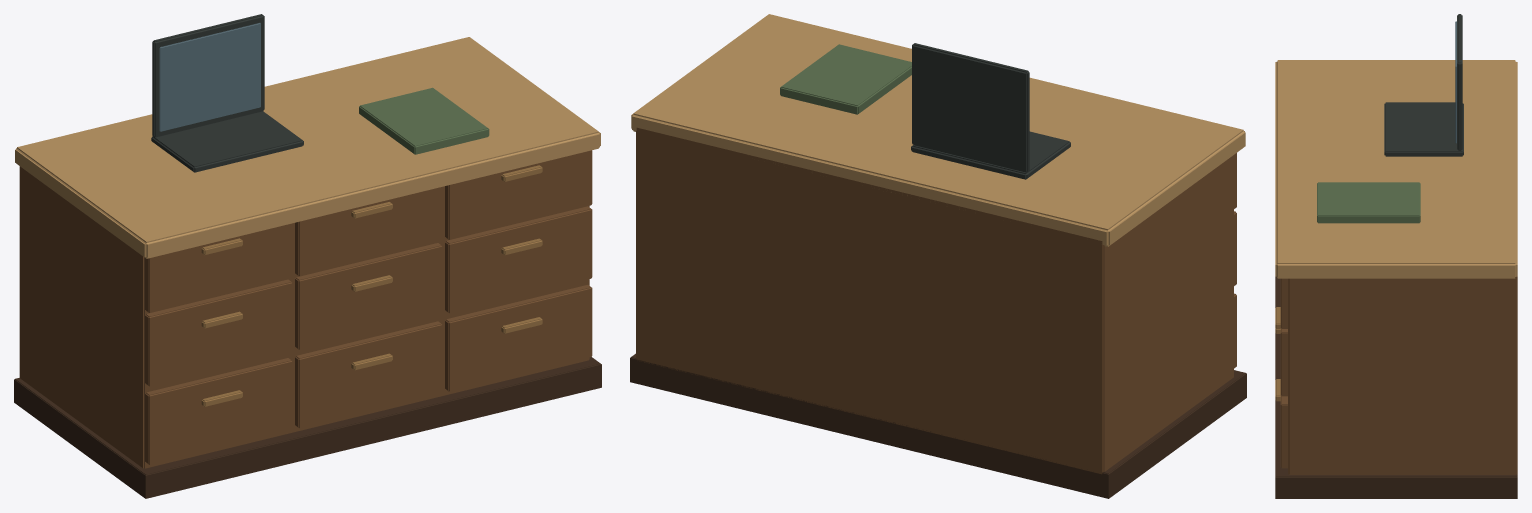
The model's file is desk.glb.
3 renders of one model, left to right at view 1: azimuth 30°, elevation 25°; view 2: azimuth 150°, elevation 25°; view 3: azimuth 270°, elevation 25°, orthographic. The views are drawn at different scales.
Visible parts, largest first — view 1: OakWritingSurface, ClosedDeskPedestal, DeskFloorPlinth, DeskDrawer.006, DeskDrawer, DeskDrawer.001, DeskDrawer.004, DeskDrawer.007, DeskDrawer.003, LaptopDisplay, DeskDrawer.008, DeskDrawer.002 (+4 smaller); view 2: ClosedDeskPedestal, OakWritingSurface, DeskFloorPlinth, LaptopDisplayFrame, ClothNotebook, LaptopBase; view 3: ClosedDeskPedestal, OakWritingSurface, DeskFloorPlinth, ClothNotebook, LaptopBase, LaptopDisplayFrame, DeskDrawer.006, DeskDrawer.007, DeskDrawer.008.
Boxes of the visible parts, x1=… form: OakWritingSurface: x1=15, y1=37, x2=600, y2=258; ClosedDeskPedestal: x1=19, y1=166, x2=589, y2=468; DeskFloorPlinth: x1=14, y1=357, x2=601, y2=498; DeskDrawer.006: x1=445, y1=285, x2=592, y2=391; DeskDrawer: x1=145, y1=358, x2=292, y2=464; DeskDrawer.001: x1=145, y1=279, x2=292, y2=386; DeskDrawer.004: x1=295, y1=243, x2=442, y2=349; DeskDrawer.007: x1=445, y1=206, x2=592, y2=313; DeskDrawer.003: x1=295, y1=321, x2=442, y2=428; LaptopDisplay: x1=159, y1=23, x2=260, y2=131; DeskDrawer.008: x1=445, y1=150, x2=592, y2=239; DeskDrawer.002: x1=145, y1=223, x2=292, y2=312; ClosedDeskPedestal: x1=636, y1=127, x2=1233, y2=474; OakWritingSurface: x1=631, y1=14, x2=1245, y2=246; DeskFloorPlinth: x1=630, y1=353, x2=1246, y2=498; LaptopDisplayFrame: x1=912, y1=43, x2=1029, y2=172; ClothNotebook: x1=780, y1=44, x2=911, y2=114; LaptopBase: x1=911, y1=131, x2=1070, y2=179; ClosedDeskPedestal: x1=1288, y1=276, x2=1517, y2=474; OakWritingSurface: x1=1275, y1=60, x2=1517, y2=278; DeskFloorPlinth: x1=1275, y1=276, x2=1517, y2=498; ClothNotebook: x1=1317, y1=182, x2=1420, y2=223; LaptopBase: x1=1384, y1=102, x2=1463, y2=156; LaptopDisplayFrame: x1=1457, y1=14, x2=1462, y2=150; DeskDrawer.006: x1=1280, y1=395, x2=1288, y2=468; DeskDrawer.007: x1=1280, y1=328, x2=1288, y2=396; DeskDrawer.008: x1=1280, y1=278, x2=1288, y2=328.
Bounding box in the file's own units: 1.4 × 1.05 × 0.7.
